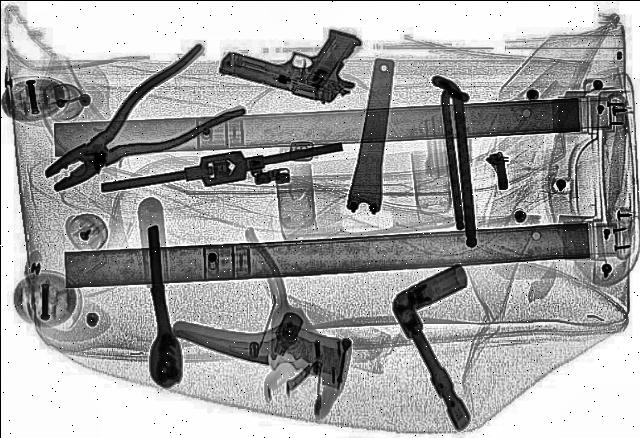Gun: (210, 8, 382, 108)
Pliers: (1, 42, 279, 210)
